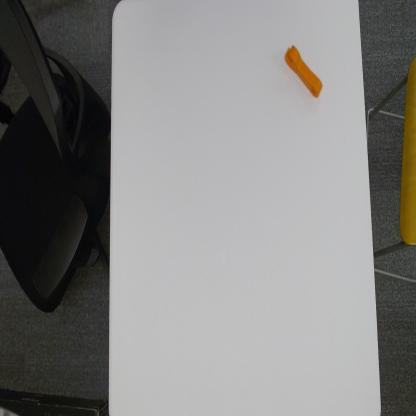Screwdriver: (283, 39, 325, 103)
